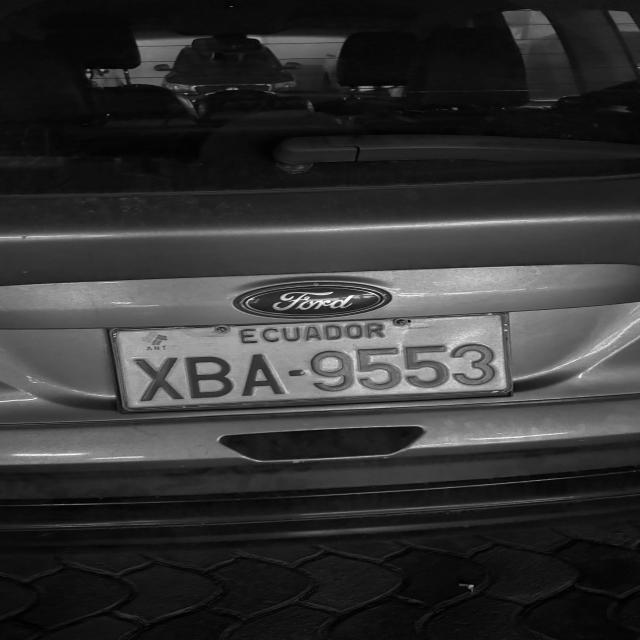Placa: (111, 314, 511, 410)
